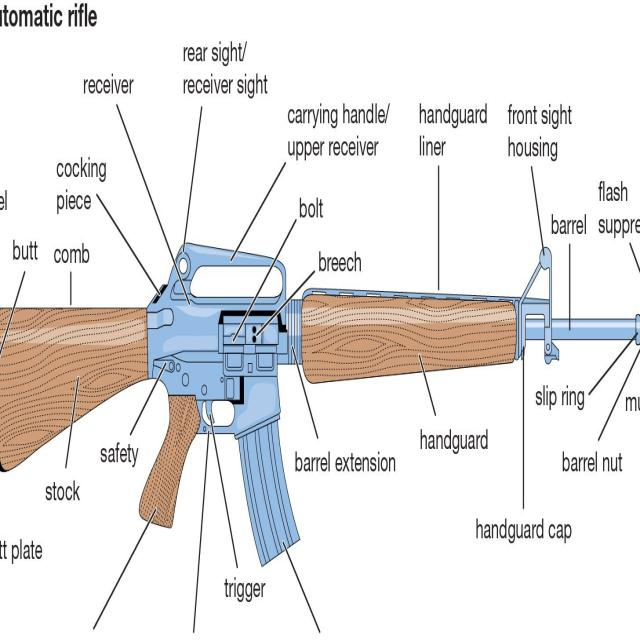Weapon: (0, 241, 557, 564)
